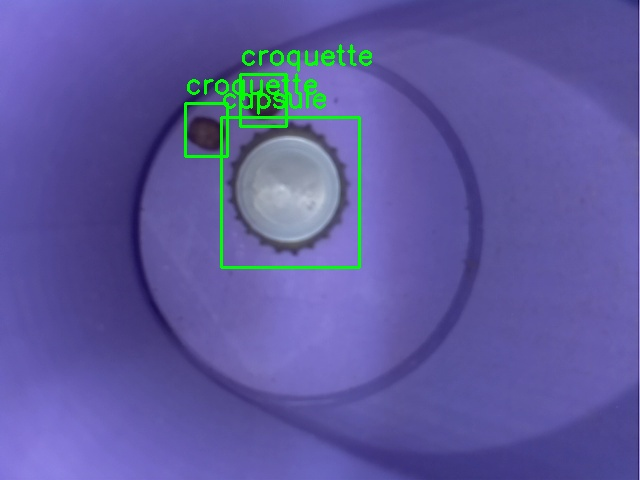capsule: (221, 117, 359, 267)
croquette: (240, 74, 286, 126), (185, 103, 227, 156)
